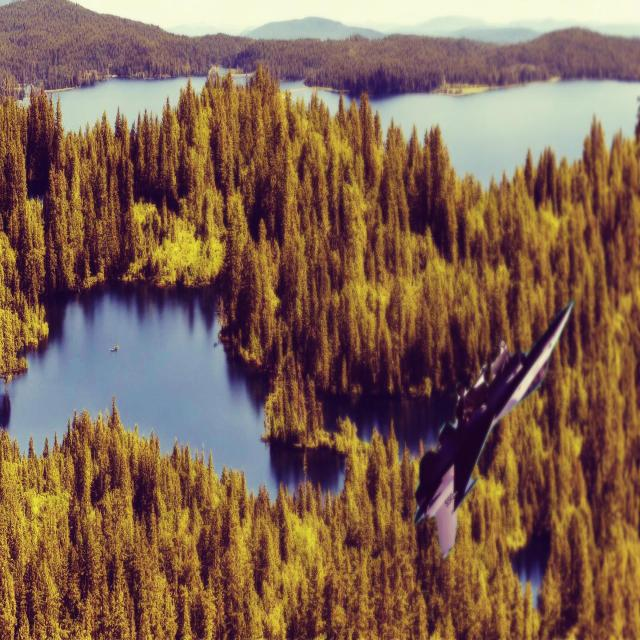airplane: (413, 298, 575, 560)
